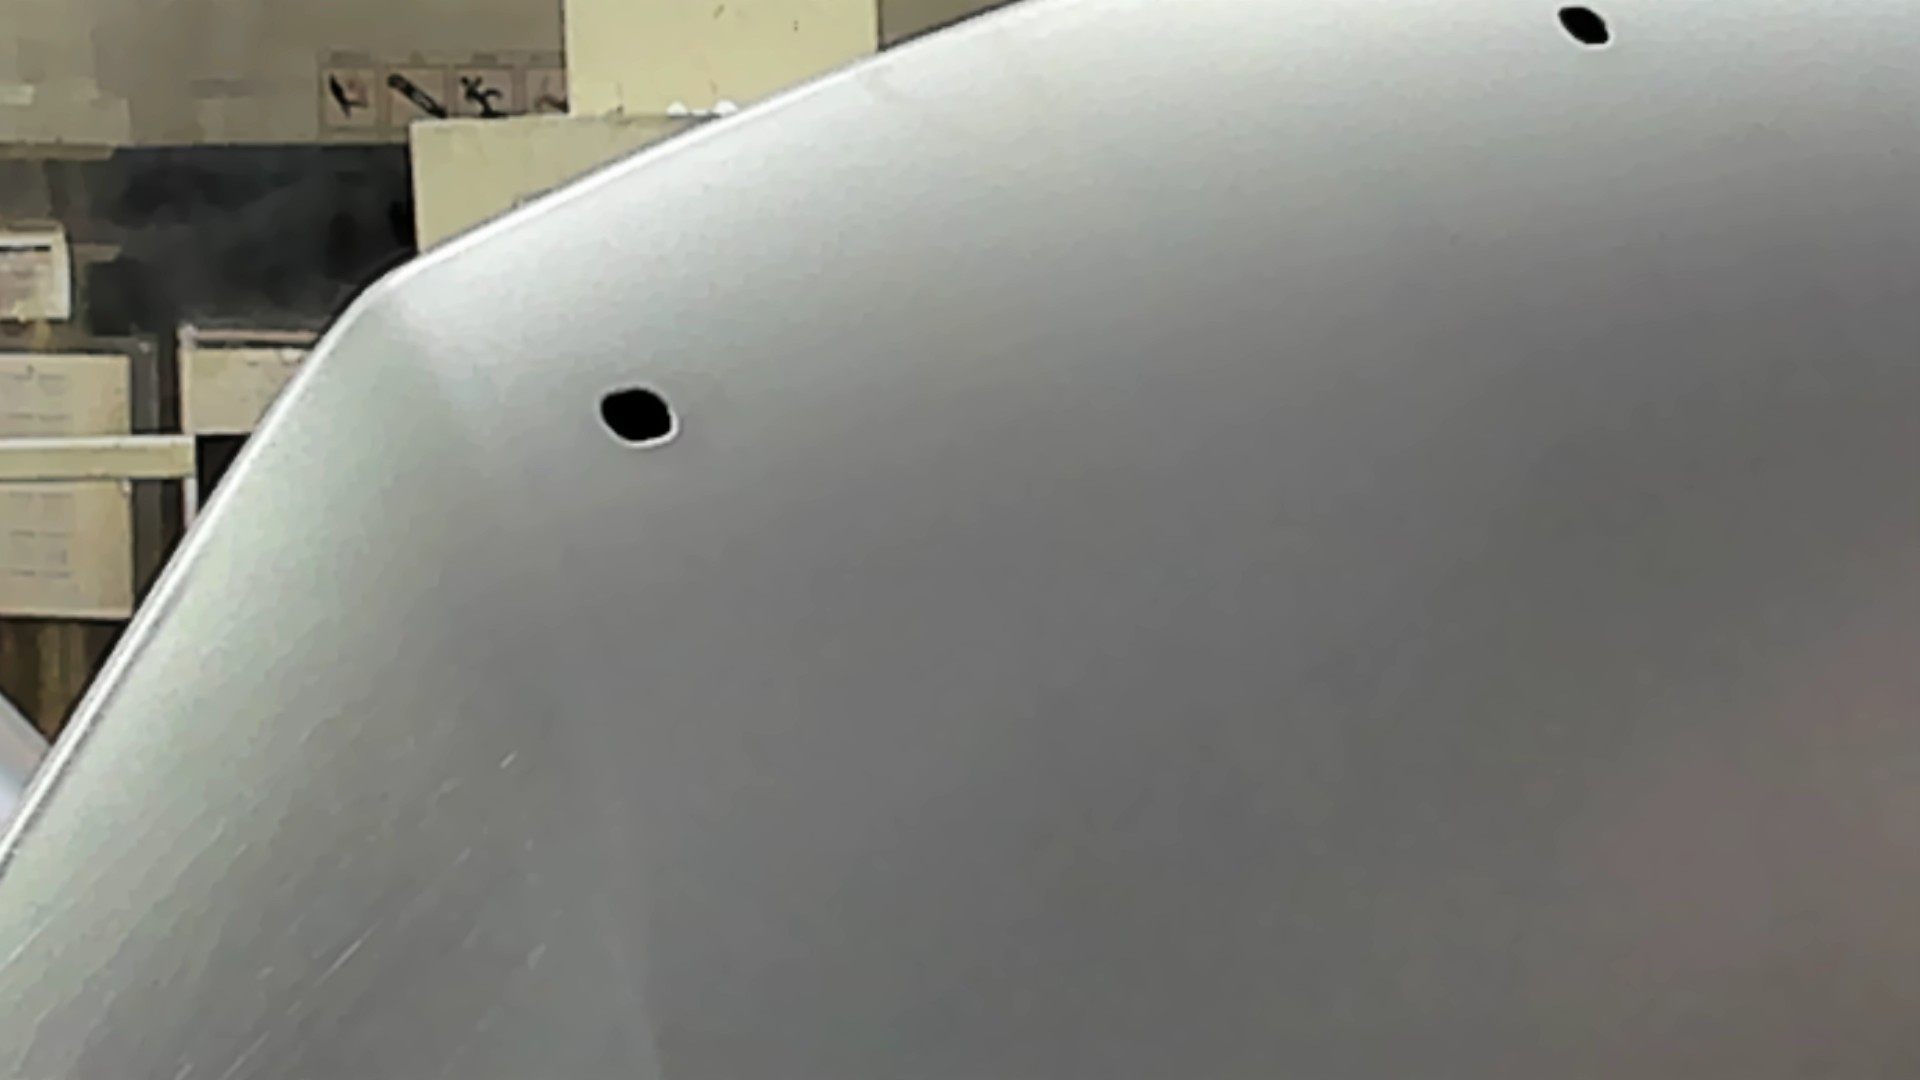amorfo: (596, 382, 679, 451), (1552, 1, 1615, 51)
